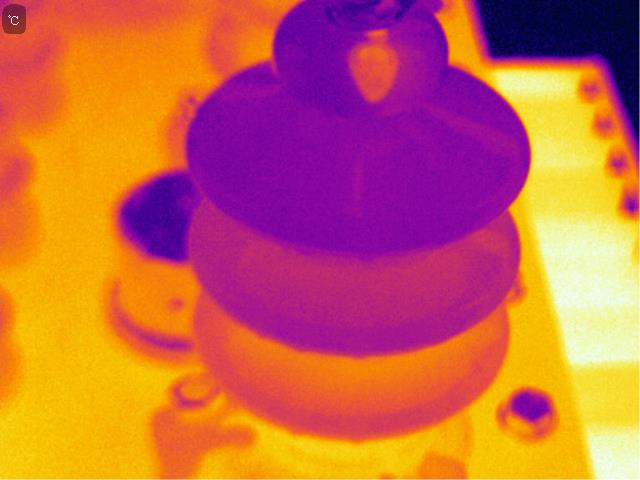Oil: (427, 95, 532, 177), (344, 23, 397, 108), (345, 164, 371, 225), (282, 426, 306, 444), (349, 436, 369, 450), (352, 351, 371, 365), (293, 343, 310, 358)
